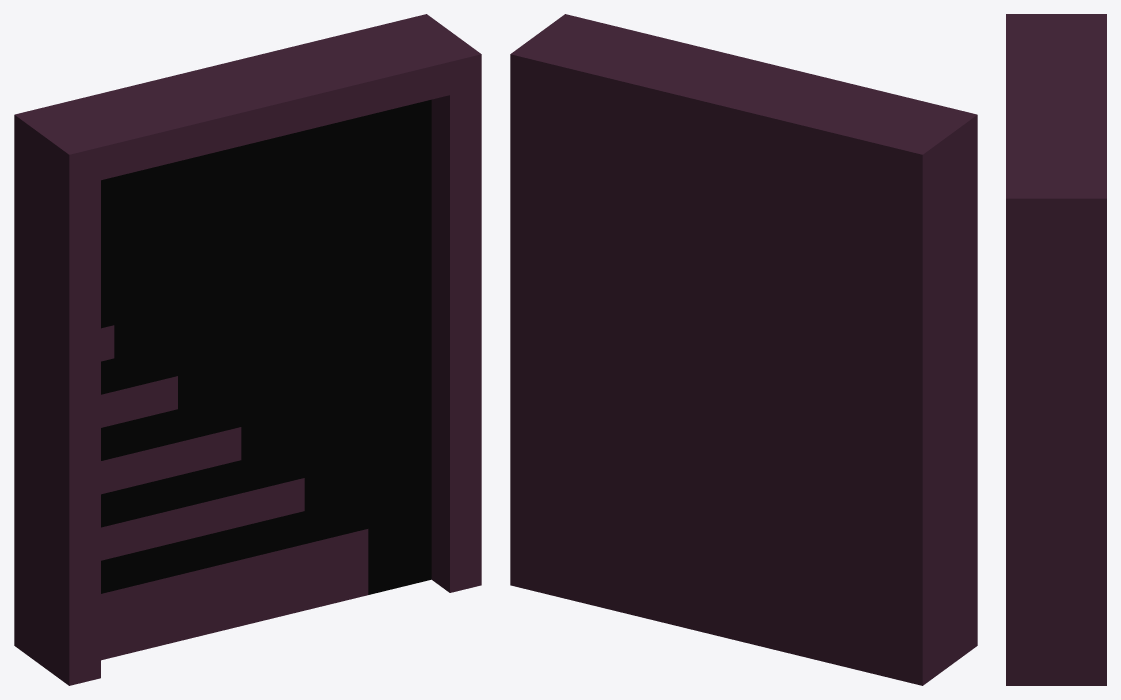
The model's file is dungeon_c_a_entrance_b_flipped.obj.
3 views of the same model, side by side, from view 1: azimuth 30°, elevation 25°; view 2: azimuth 150°, elevation 25°; view 3: azimuth 270°, elevation 25° (orthographic). The views are drawn at different scales.
Size of the model in its own units: 1.3 by 1.6 by 0.3.
Materials: 1 (1 with a texture image).
